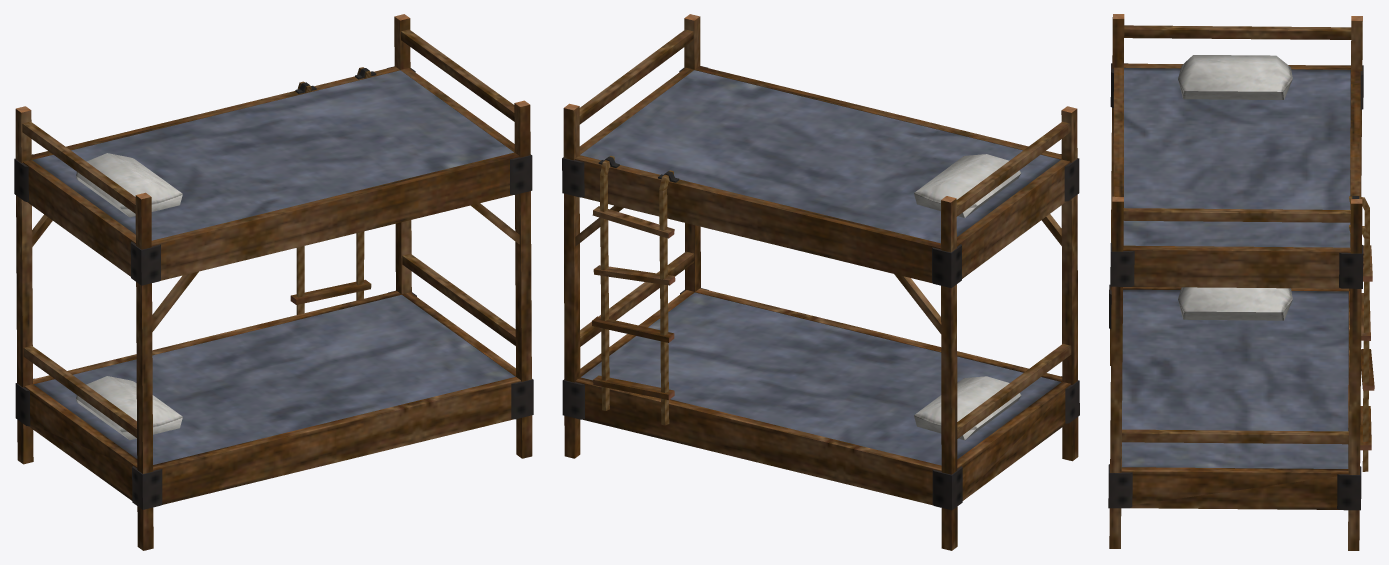
File: d_emc_shouyou_chuang_qt.FBX
3 renders of one model, left to right at view 1: azimuth 30°, elevation 25°; view 2: azimuth 150°, elevation 25°; view 3: azimuth 270°, elevation 25°, orthographic.
Visible parts, largest first — view 1: d_emc_shouyou_chuang_qt; view 2: d_emc_shouyou_chuang_qt; view 3: d_emc_shouyou_chuang_qt.
Boxes of the visible parts, left/top/right/bottom form: d_emc_shouyou_chuang_qt: left=14, top=14, right=533, bottom=550; d_emc_shouyou_chuang_qt: left=562, top=14, right=1079, bottom=550; d_emc_shouyou_chuang_qt: left=1108, top=14, right=1374, bottom=550.
Size of the model in its own units: 3.98 by 3.42 by 2.37.
